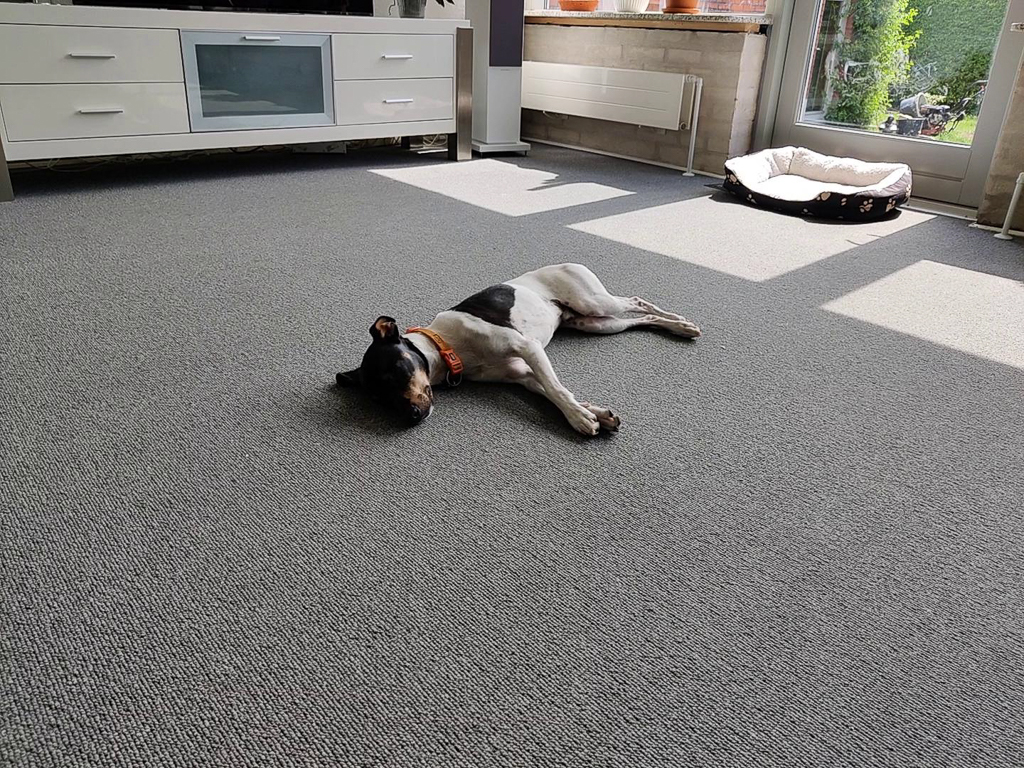Dog: (318, 247, 727, 465)
Humanoid: (876, 111, 902, 137)
